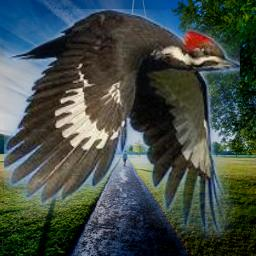Woodpecker: (4, 9, 240, 241)
